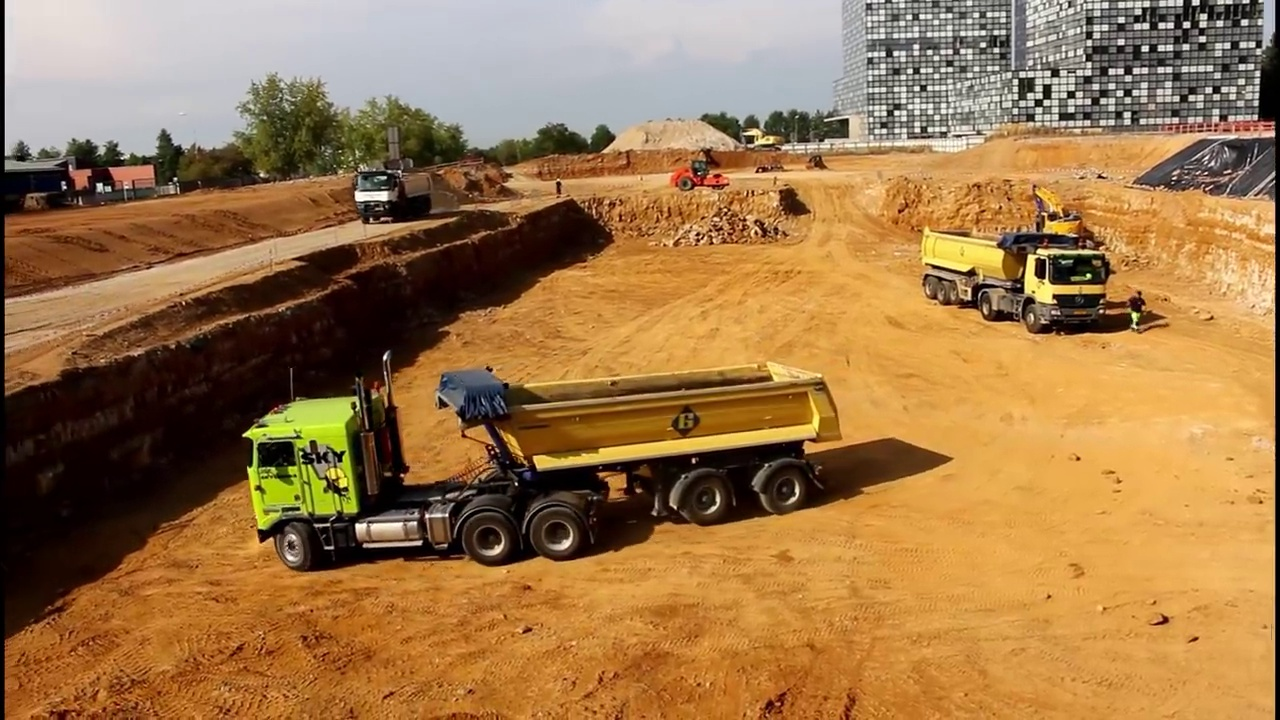compactor: (669, 158, 733, 195)
excavator: (1022, 178, 1112, 299), (737, 124, 786, 157)
truck: (238, 347, 848, 575), (917, 223, 1120, 338), (353, 164, 436, 228)
worker: (1127, 286, 1148, 336), (550, 174, 568, 205)
